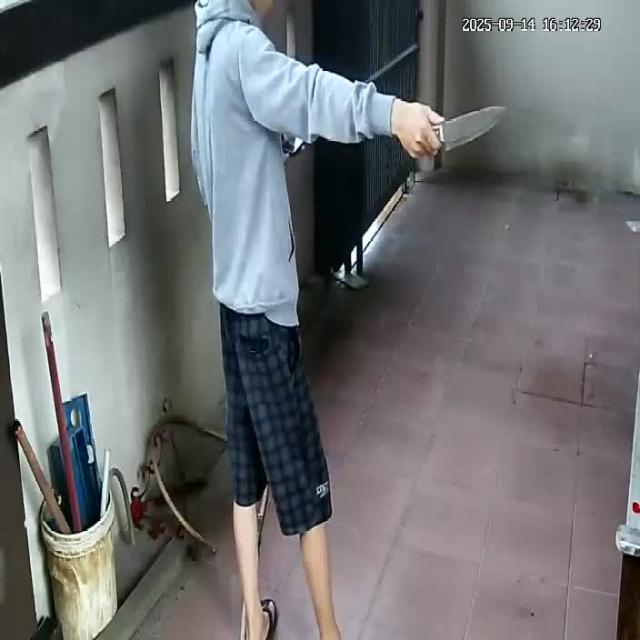senjata_tajam: (436, 103, 509, 153)
